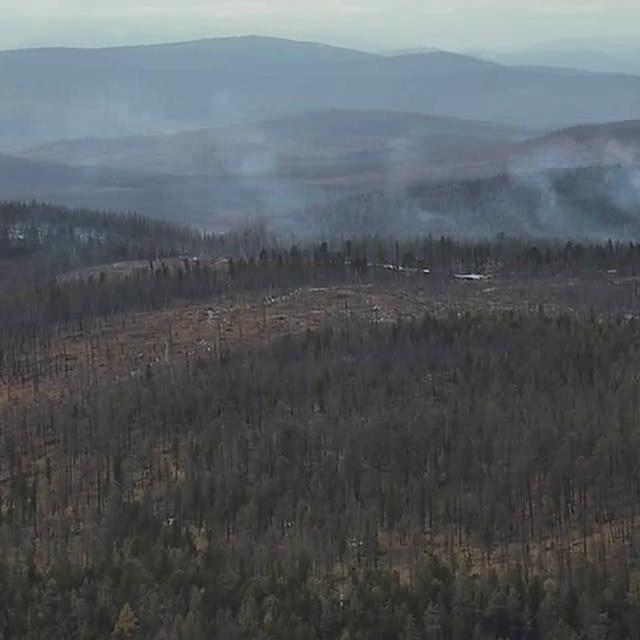Smoke: (160, 85, 639, 276)
